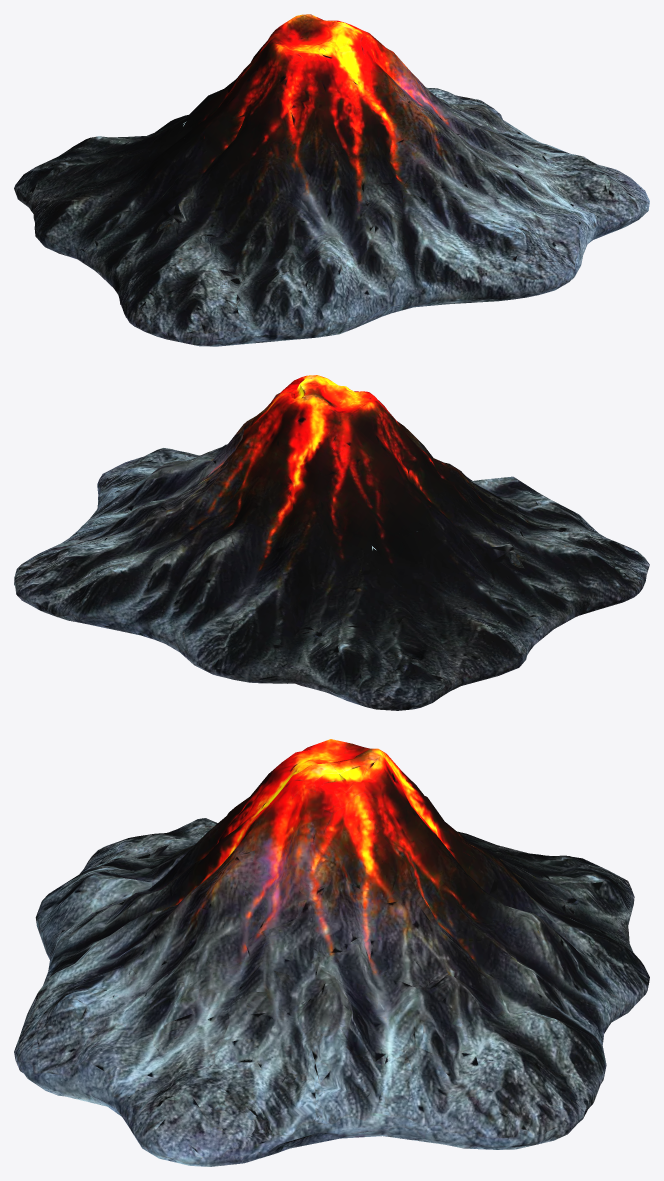
Rendered from realvolcano.glb.
3 views of the same model, one above another, from view 1: azimuth 30°, elevation 25°; view 2: azimuth 150°, elevation 25°; view 3: azimuth 270°, elevation 25° (orthographic). The views are drawn at different scales.
Parts seen in each view (by area): view 1: Mesh; view 2: Mesh; view 3: Mesh.
Boxes of the visible parts, bbox=[...] form: Mesh: bbox=[14, 14, 649, 346]; Mesh: bbox=[14, 375, 649, 710]; Mesh: bbox=[14, 739, 649, 1166].
Size of the model in its own units: 117 by 45 by 98.7.
Materials: 1 (1 with a texture image).
